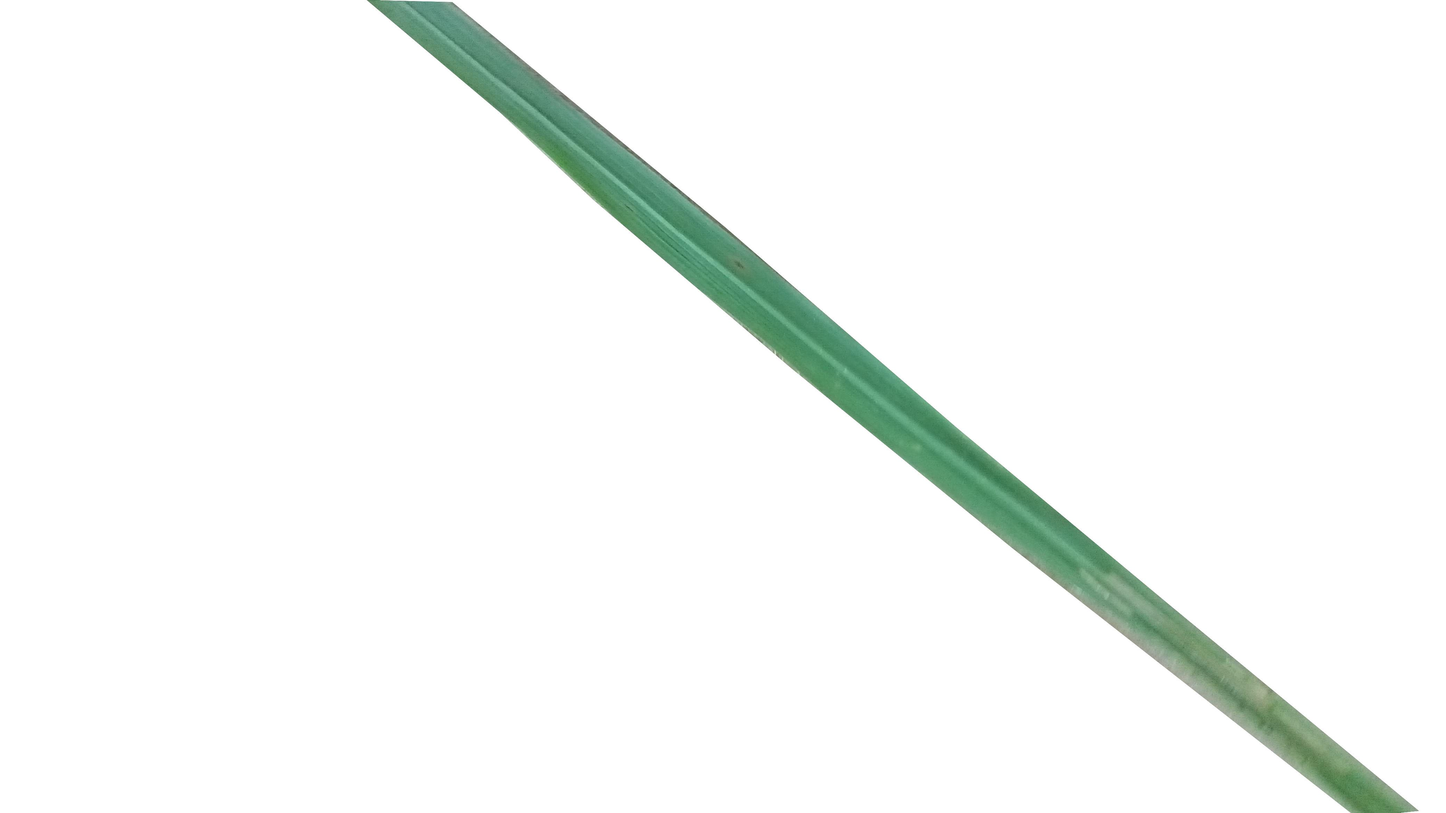Brown spot: (727, 252, 750, 278)
